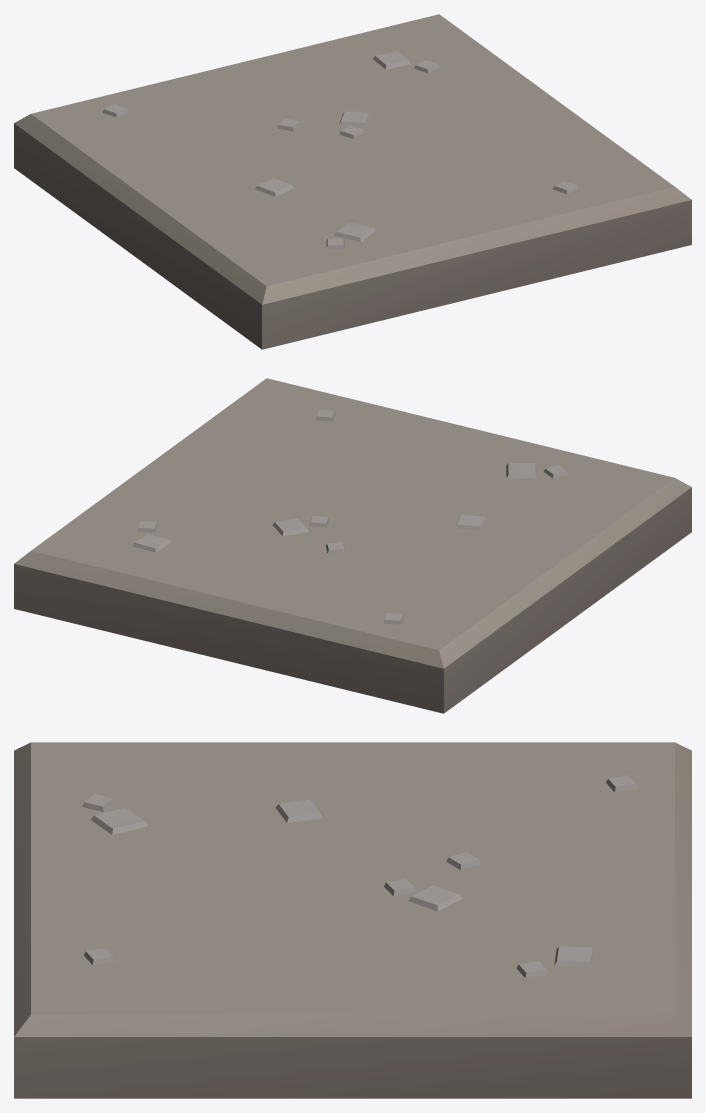
Rendered from dirt-tile.glb.
3 renders of one model, top to bottom at view 1: azimuth 30°, elevation 25°; view 2: azimuth 150°, elevation 25°; view 3: azimuth 270°, elevation 25°, orthographic. The views are drawn at different scales.
Parts seen in each view (by area): view 1: floor_dirt; view 2: floor_dirt; view 3: floor_dirt.
Part boxes in pixels (x1,y1,x2,y2): floor_dirt: (14, 14, 691, 349); floor_dirt: (14, 378, 691, 713); floor_dirt: (14, 742, 691, 1098).
Bounding box in the file's own units: 4 × 0.5301 × 4.
Materials: 1 (1 with a texture image).
